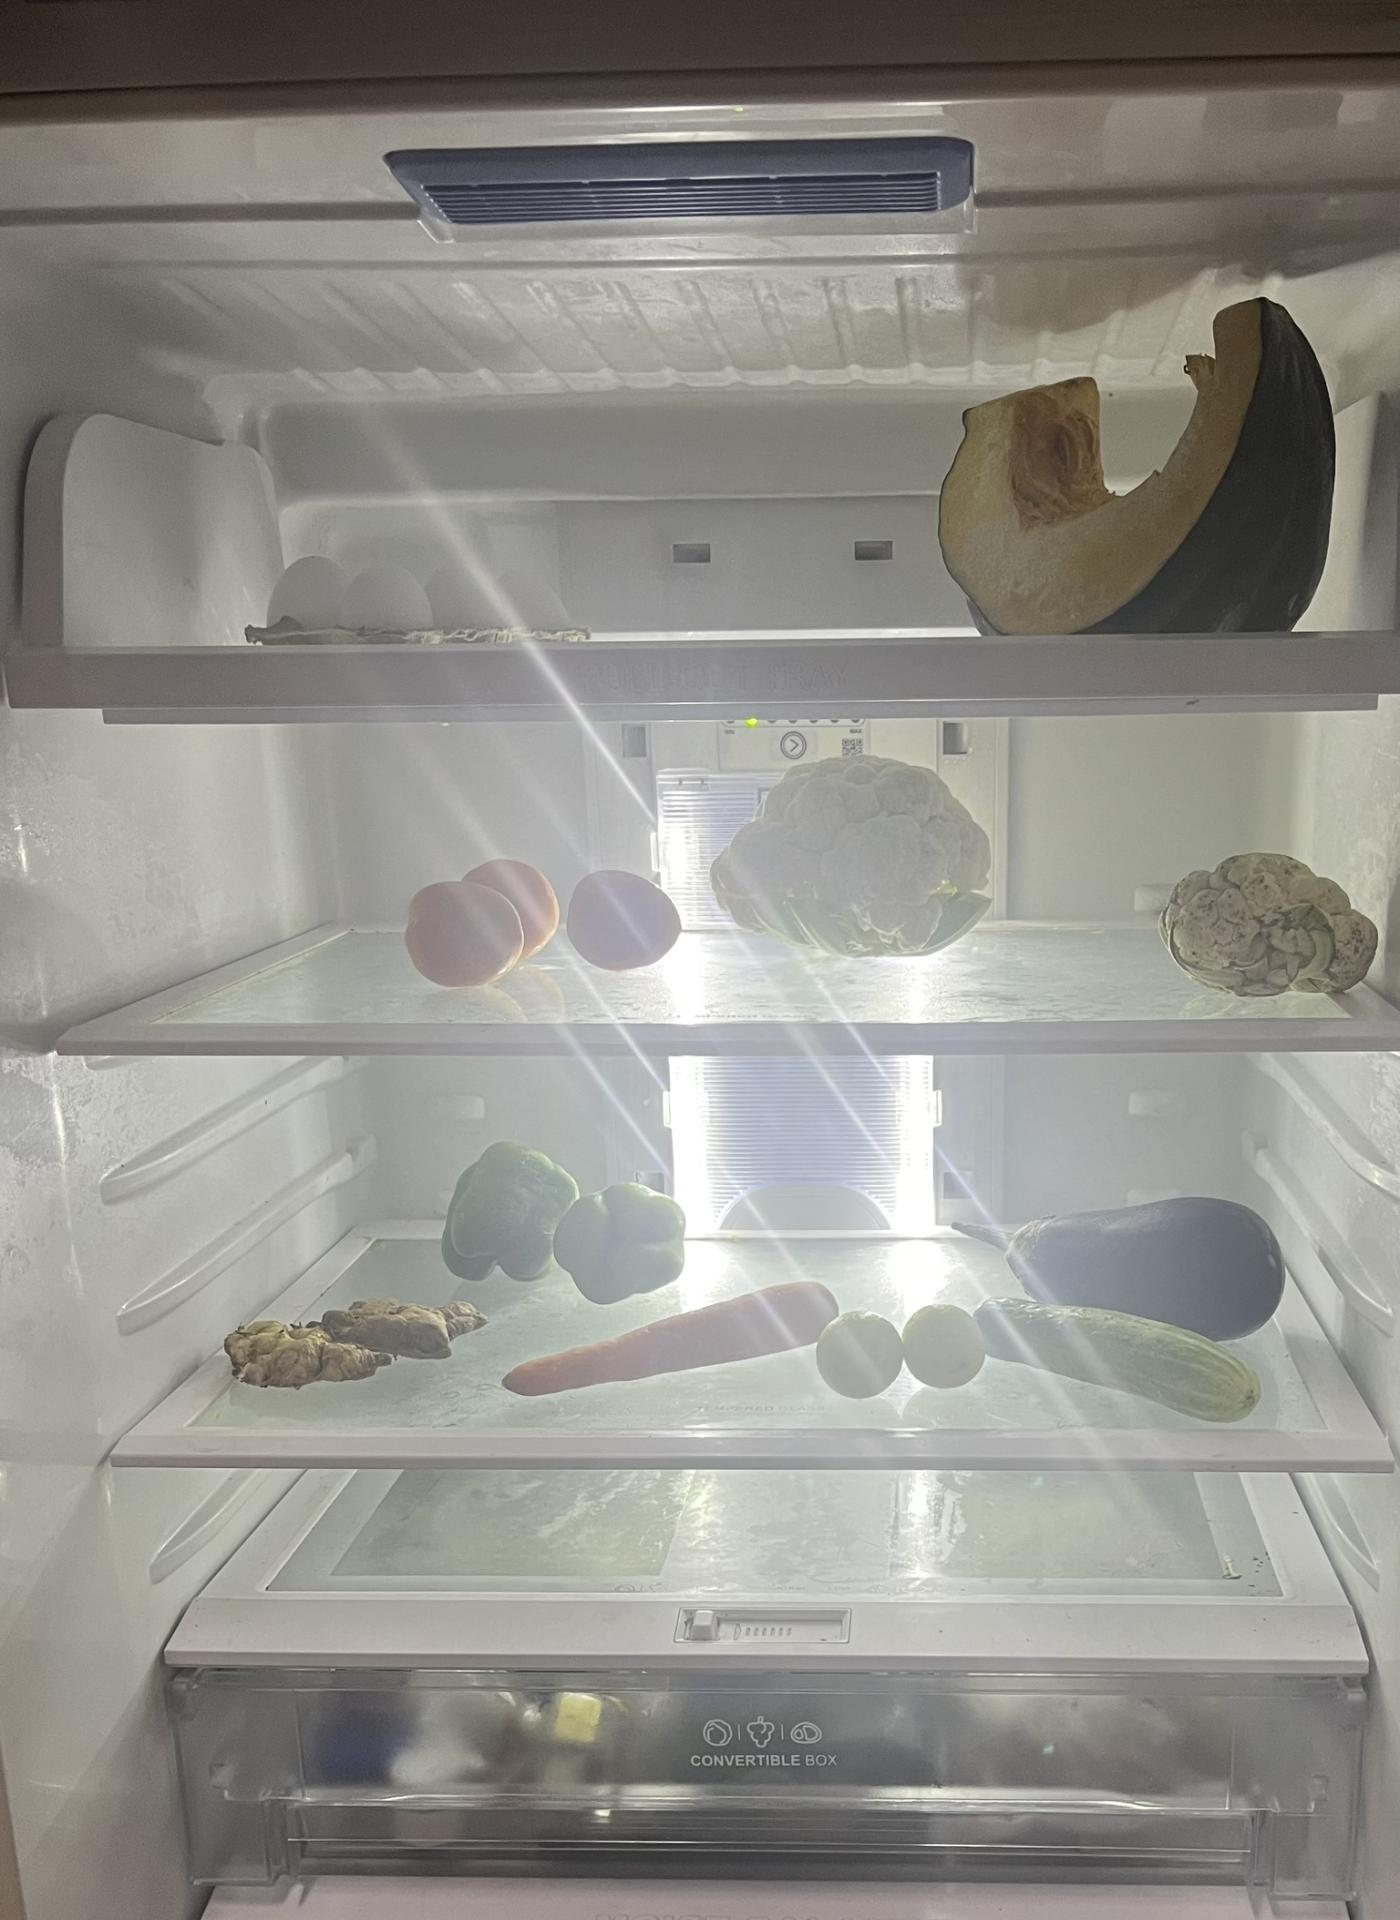brinjal: (945, 1203, 1279, 1337)
capsicum: (452, 1146, 674, 1297)
carrots: (510, 1278, 838, 1394)
cauliflower: (707, 756, 990, 954), (1161, 847, 1385, 1000)
cucumber: (974, 1294, 1267, 1419)
egg: (252, 556, 580, 635)
ginger: (222, 1298, 483, 1395)
lemon: (822, 1298, 1002, 1406)
pumpkin: (941, 289, 1345, 637)
tomato: (397, 847, 565, 987), (567, 859, 692, 973)
